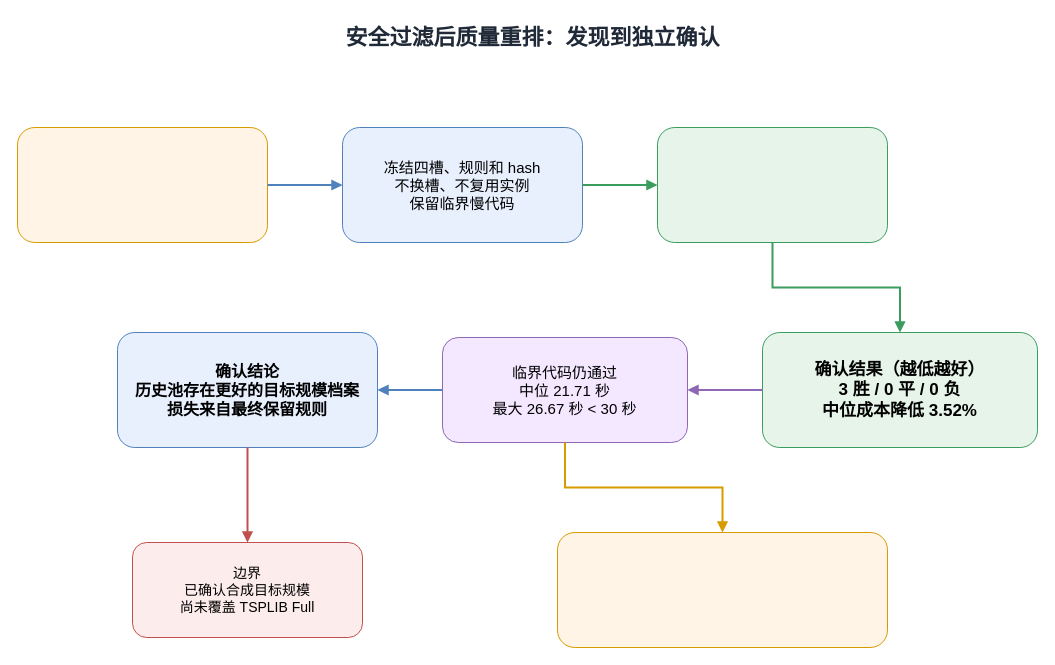
Image size: 1055x665. Some labels were removed from this diagram. The shapes that lost their labels are listed below. From the top down, each one's box as (x1, y1, x2, y2) in pixels, then its label:
(16, 126, 268, 242): Stage AY 发现集 94/99 条代码 3/3 可行 新四槽成本降低 3.13%
(656, 126, 888, 242): Stage AZ 全新实例 8 条代码 × 3 实例 24/24 可行
(556, 532, 888, 648): 下一步：最小充分档案 逐槽移除与全部子集分析 判断收益是否依赖慢代码
